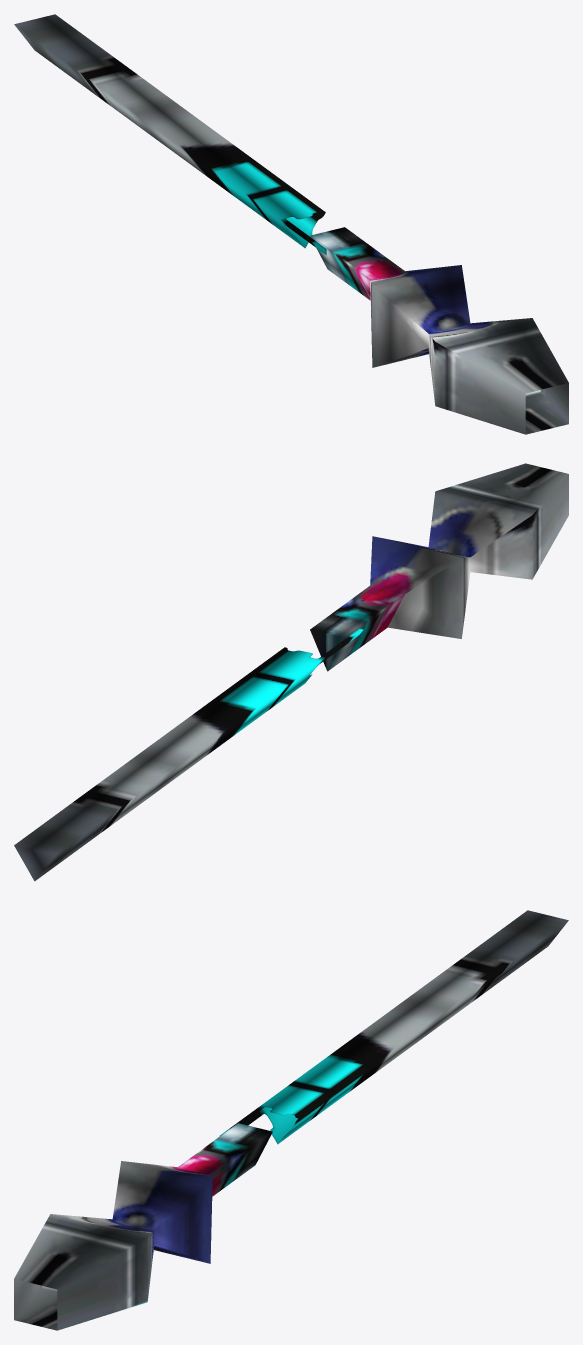
The model's file is rotation.obj.
3 renders of one model, top to bottom at view 1: azimuth 30°, elevation 25°; view 2: azimuth 150°, elevation 25°; view 3: azimuth 330°, elevation 25°, orthographic.
Parts seen in each view (by area): view 1: debug_2, debug_1; view 2: debug_2, debug_1; view 3: debug_2, debug_1.
Part boxes in pixels (x1=…): debug_2: x1=310, y1=227, x2=568, y2=434; debug_1: x1=14, y1=14, x2=326, y2=254; debug_2: x1=310, y1=463, x2=568, y2=671; debug_1: x1=14, y1=628, x2=363, y2=881; debug_2: x1=14, y1=1123, x2=272, y2=1330; debug_1: x1=219, y1=910, x2=568, y2=1144.
Bounding box in the file's own units: 1.44 × 1.15 × 13.16.
Materials: 1 (1 with a texture image).
